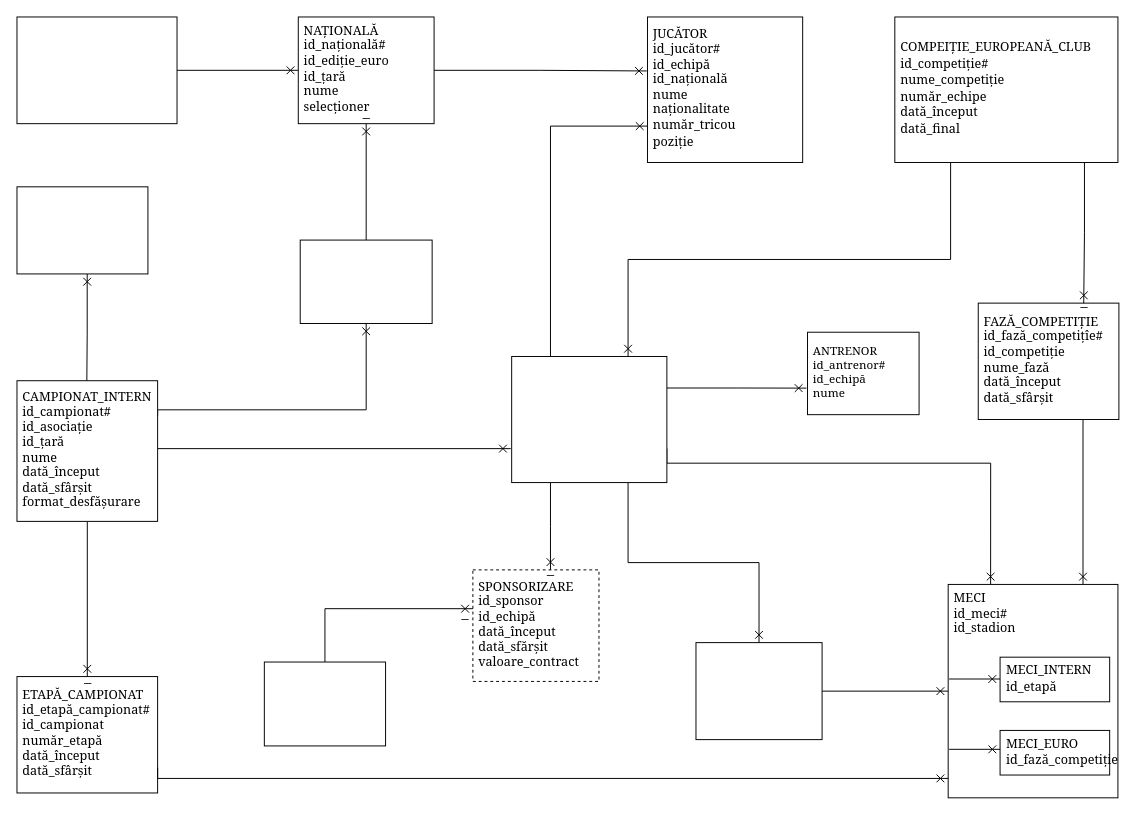
The diagram is 1136 pixels wide and 815 high, and some of its shapes have lost their labels. The centre of each missing label's shape, as x and y in pixels:
"ASOCIAȚIE id_asociație# nume id_țară" goes at pixel 82 230.
"CAMPIONAT_EUROPEAN id_ediție_euro# țară_gazdă dată_început dată_sfărșit" goes at pixel 96 70.
"ECHIPĂ id_echipă# id_campionat id_competiție id_stadion nume" goes at pixel 589 419.
"SPONSOR id_sponsor# nume" goes at pixel 324 703.
"STADION id_stadion# nume oraș capacitate" goes at pixel 758 691.
"ȚARĂ id_țară# nume" goes at pixel 365 281.
